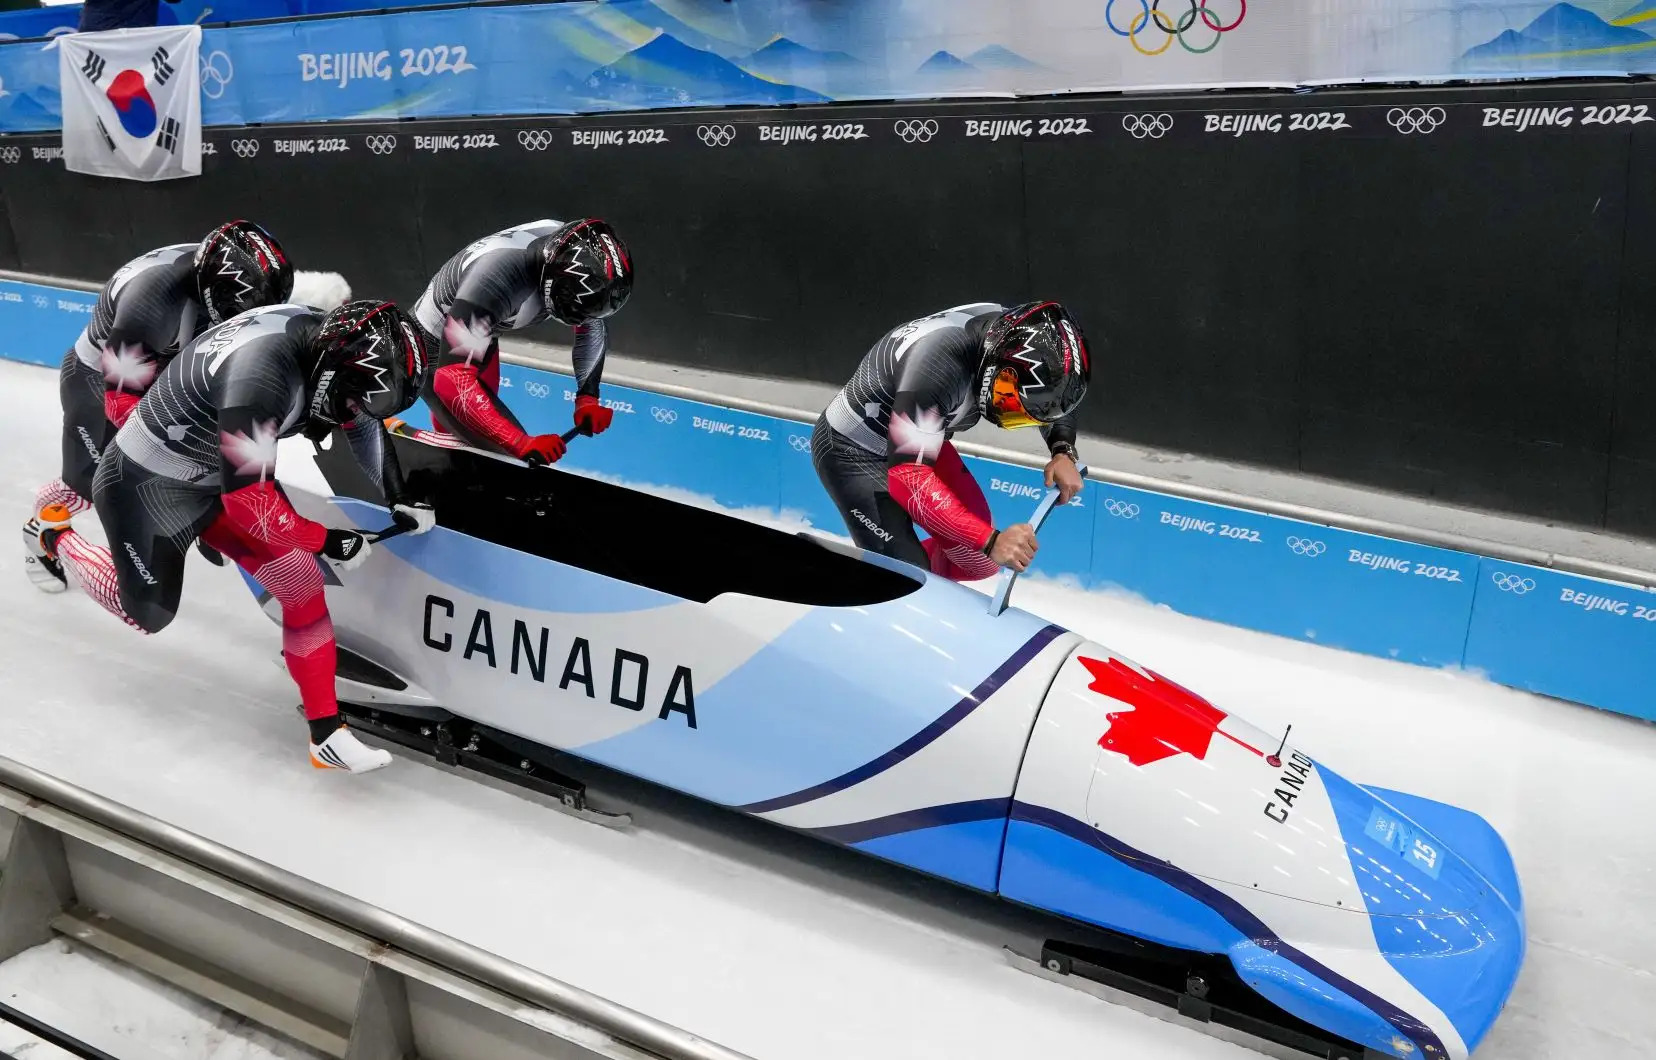Bobsleigh: (251, 429, 1528, 1055)
